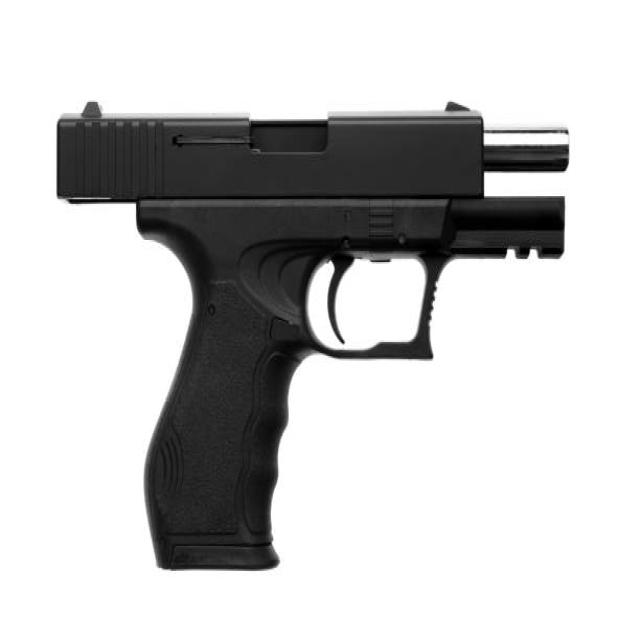pistol: (53, 93, 574, 585)
